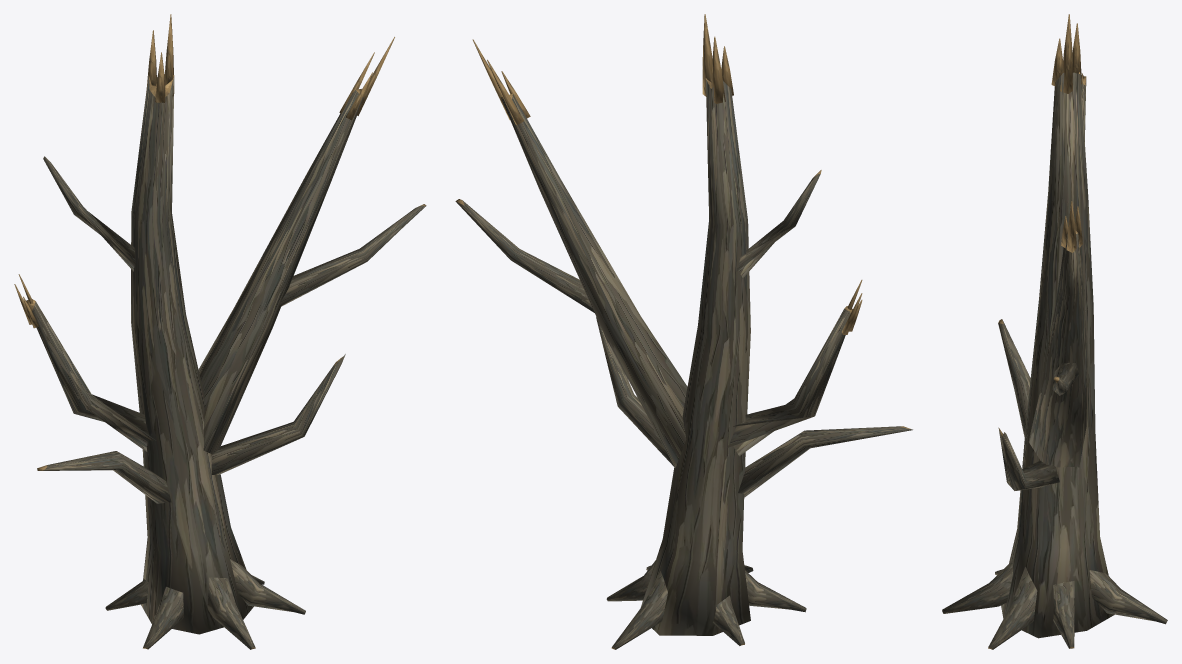
Rendered from nbt_snag.glb.
3 renders of one model, left to right at view 1: azimuth 30°, elevation 25°; view 2: azimuth 150°, elevation 25°; view 3: azimuth 270°, elevation 25°, orthographic. The views are drawn at different scales.
Visible parts, largest first — view 1: Dead_Snag_Wood; view 2: Dead_Snag_Wood; view 3: Dead_Snag_Wood.
Part boxes in pixels (x1,y1,x2,y2): Dead_Snag_Wood: (14, 14, 426, 649); Dead_Snag_Wood: (455, 14, 912, 649); Dead_Snag_Wood: (942, 14, 1167, 649).
Size of the model in its own units: 3.88 by 5.28 by 1.83.
1 material, 1 textured.
